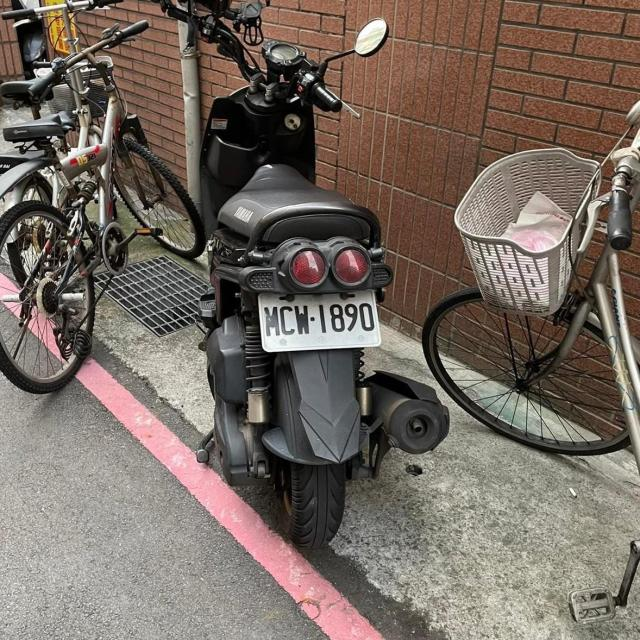W: (254, 288, 381, 352)
